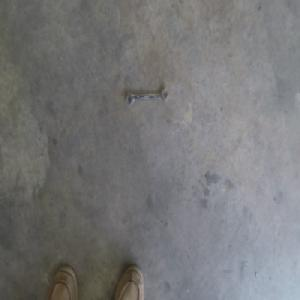Wrench: (125, 88, 169, 105)
